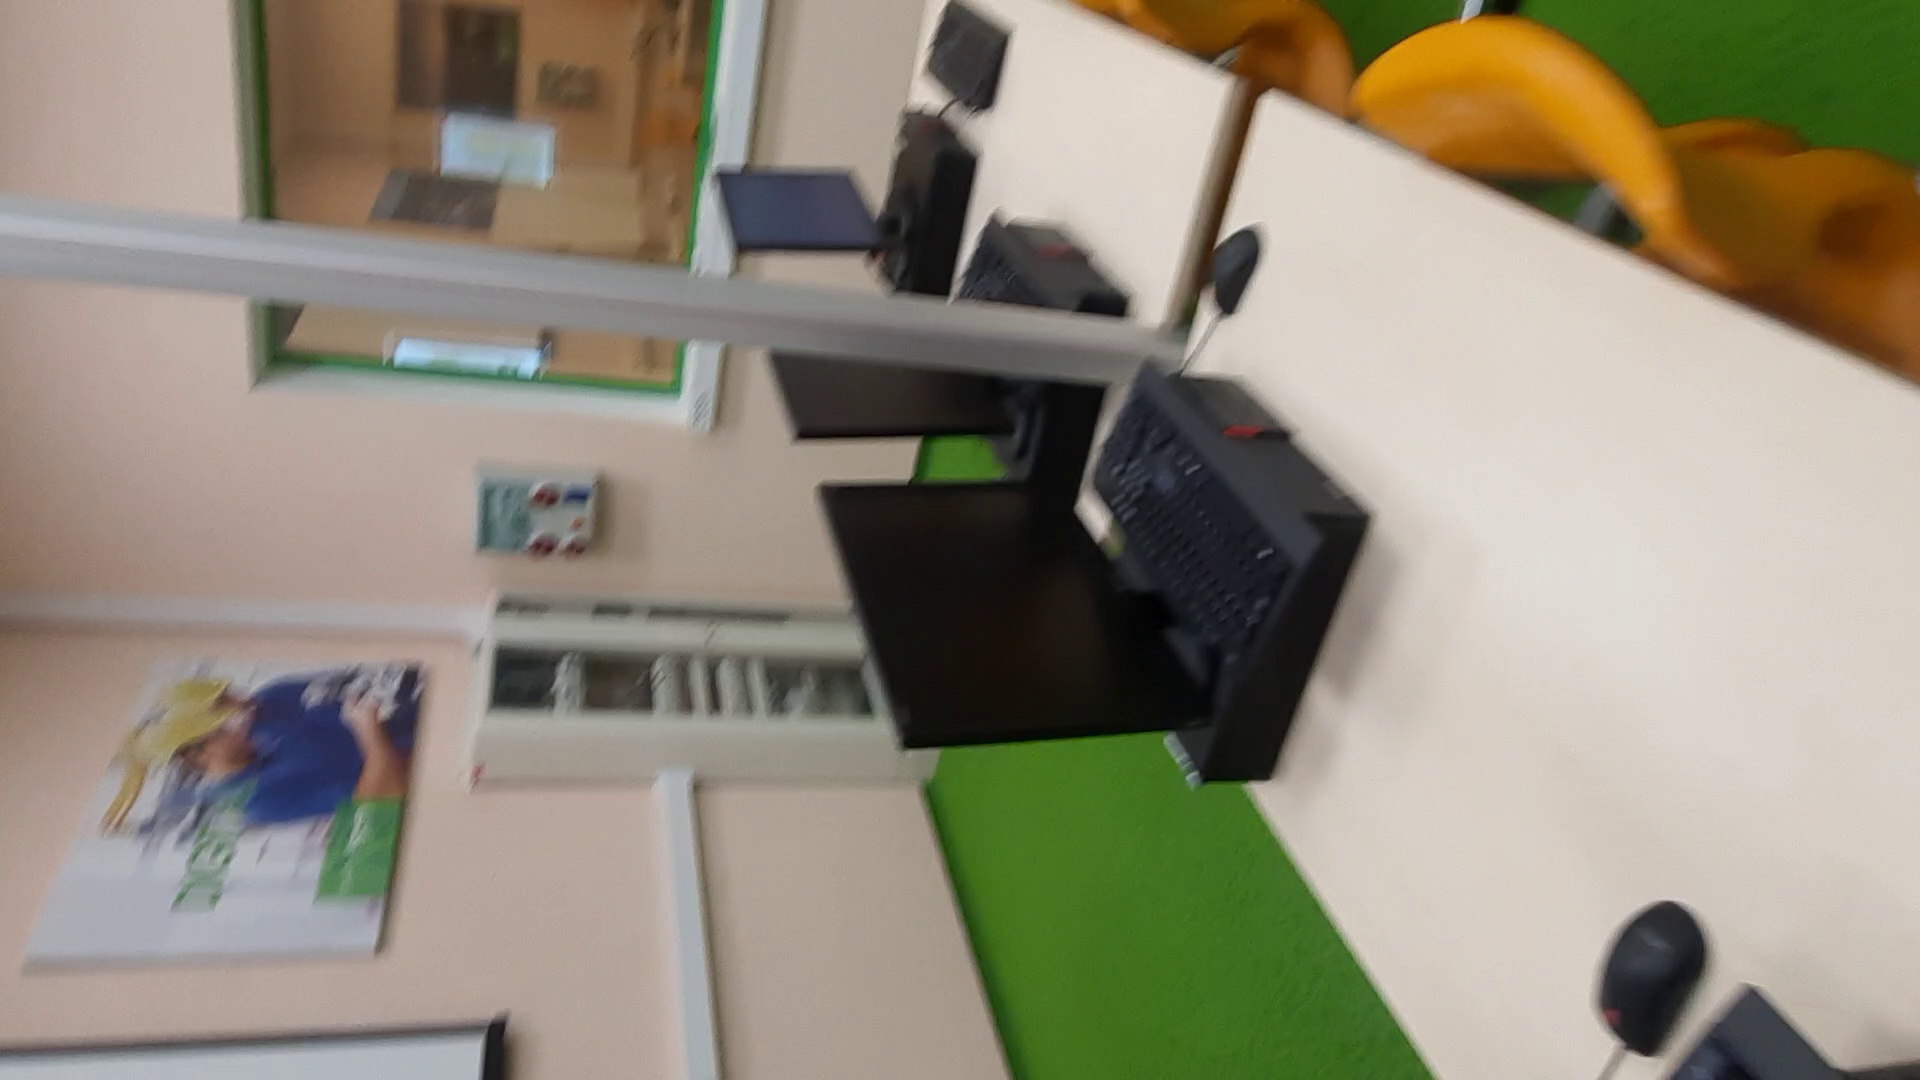stand1: (468, 593, 899, 794)
